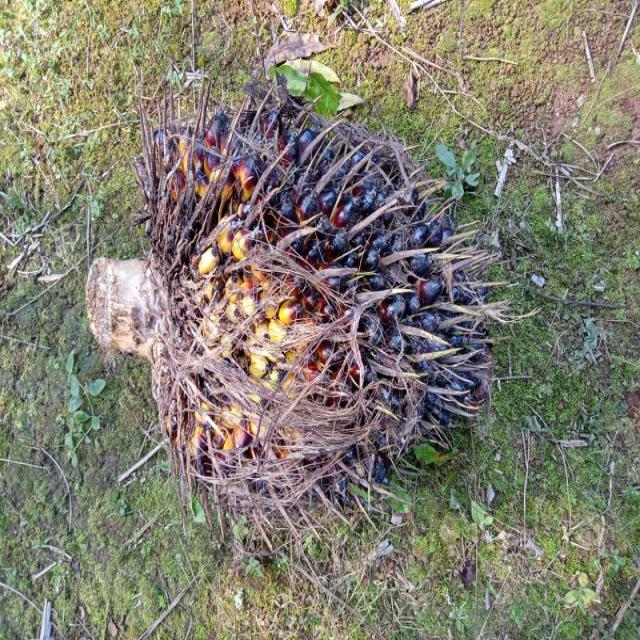fraksi 00: (108, 66, 547, 546)
